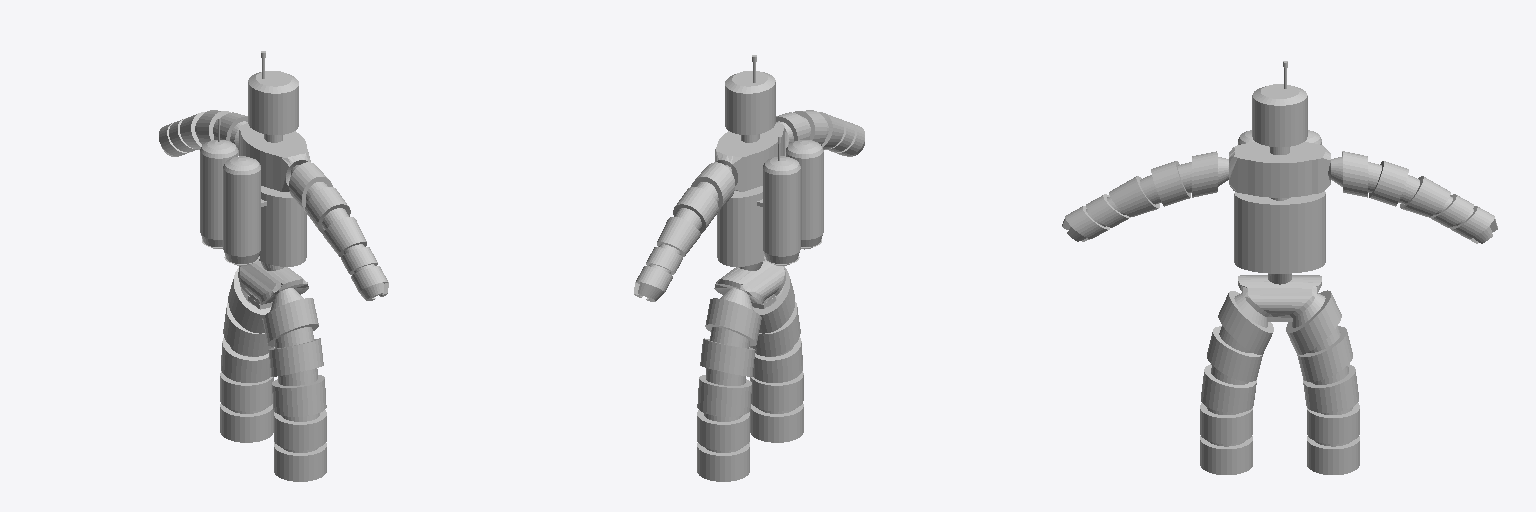
The model's file is first character.obj.
3 views of the same model, side by side, from view 1: azimuth 30°, elevation 25°; view 2: azimuth 150°, elevation 25°; view 3: azimuth 270°, elevation 25° (orthographic).
Visible parts, largest first — view 1: POSTAC; view 2: POSTAC; view 3: POSTAC.
Part boxes in pixels (left/top/right/bottom): POSTAC: left=159, top=51, right=388, bottom=481; POSTAC: left=634, top=55, right=864, bottom=481; POSTAC: left=1062, top=61, right=1497, bottom=474.
Size of the model in its own units: 2.53 by 11.54 by 11.44.